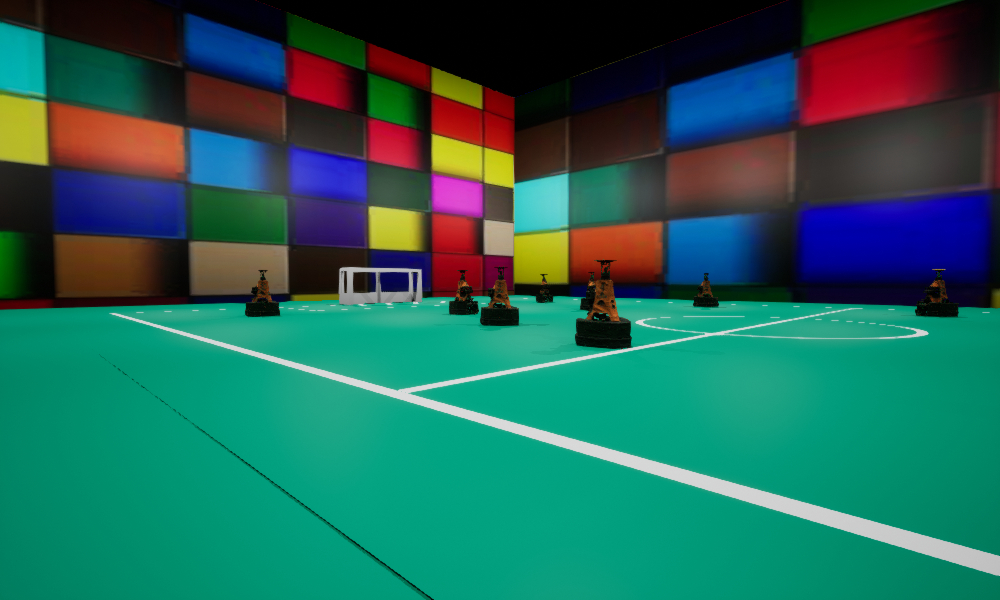o: (575, 259, 631, 348), (480, 266, 518, 325), (915, 269, 958, 316), (245, 270, 279, 316), (449, 270, 478, 314), (693, 273, 718, 306), (580, 272, 595, 310), (536, 274, 552, 302)
